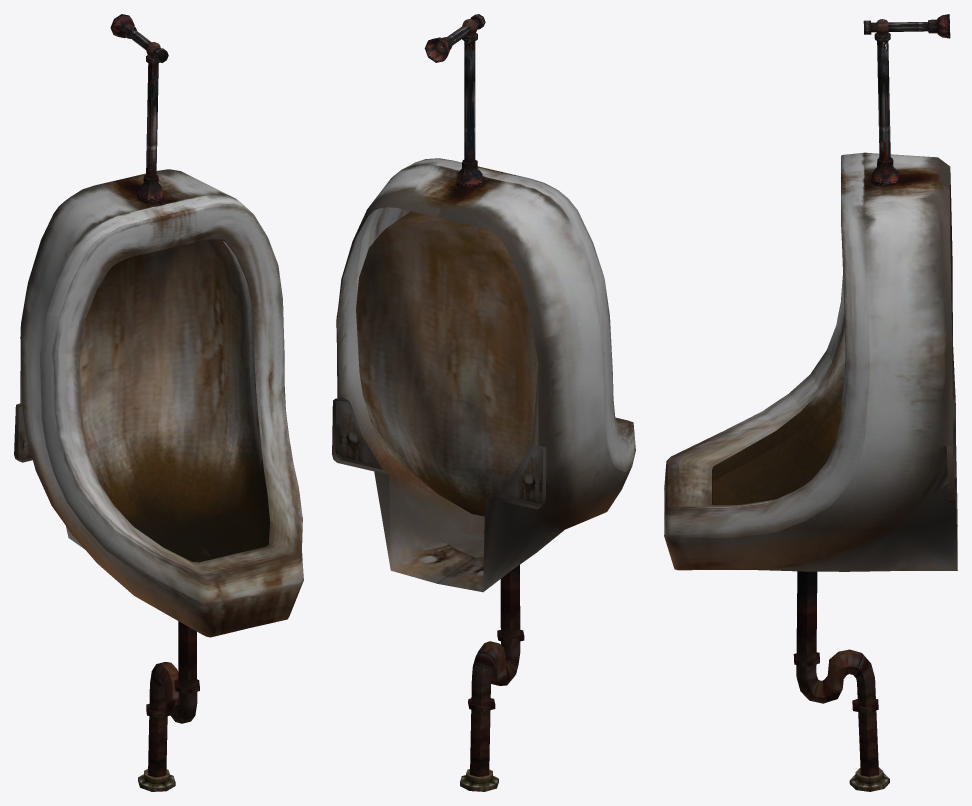
File: urinal.glb
The picture shows the model from 3 angles, left to right: view 1: azimuth 30°, elevation 25°; view 2: azimuth 150°, elevation 25°; view 3: azimuth 270°, elevation 25°; orthographic projection. The views are drawn at different scales.
Visible parts, largest first — view 1: s4studio_mesh_1, s4studio_mesh_1.001; view 2: s4studio_mesh_1, s4studio_mesh_1.001; view 3: s4studio_mesh_1, s4studio_mesh_1.001.
Part boxes in pixels (x1,y1,x2,y2): s4studio_mesh_1: [14, 14, 303, 637]; s4studio_mesh_1.001: [138, 621, 199, 791]; s4studio_mesh_1: [332, 14, 635, 592]; s4studio_mesh_1.001: [460, 565, 524, 791]; s4studio_mesh_1: [664, 14, 957, 571]; s4studio_mesh_1.001: [793, 571, 889, 791].
Bounding box in the file's own units: 0.4479 × 1.35 × 0.4669.
2 materials, 2 textured.
